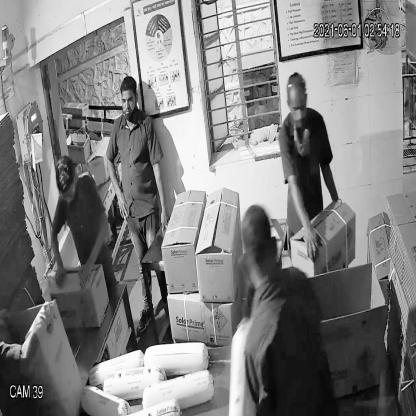no_goggles: (281, 95, 310, 121)
